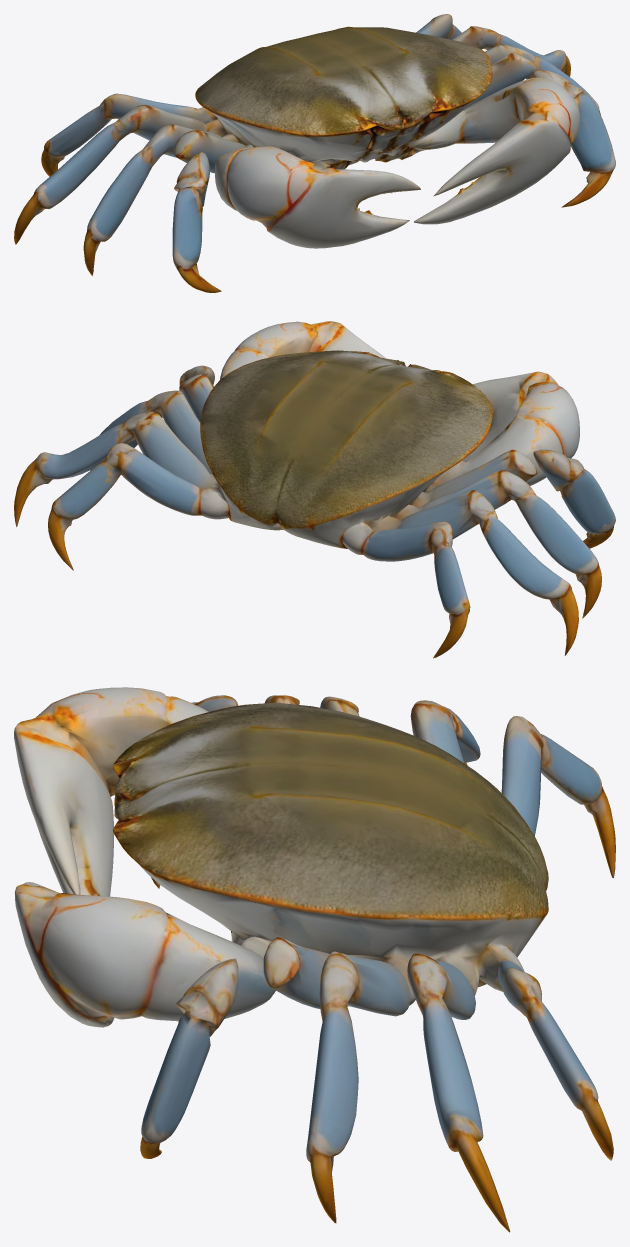
The model's file is blue-crab.glb.
The picture shows the model from 3 angles, top to bottom: view 1: azimuth 30°, elevation 25°; view 2: azimuth 150°, elevation 25°; view 3: azimuth 270°, elevation 25°; orthographic projection. The views are drawn at different scales.
Visible parts, largest first — view 1: material; view 2: material; view 3: material.
Boxes of the visible parts, box(x1,y1,x2,y2) form: material: box(14, 14, 615, 292); material: box(14, 321, 615, 658); material: box(14, 687, 615, 1232).
Size of the model in its own units: 1.11 by 0.3272 by 0.6531.
Materials: 1 (1 with a texture image).
